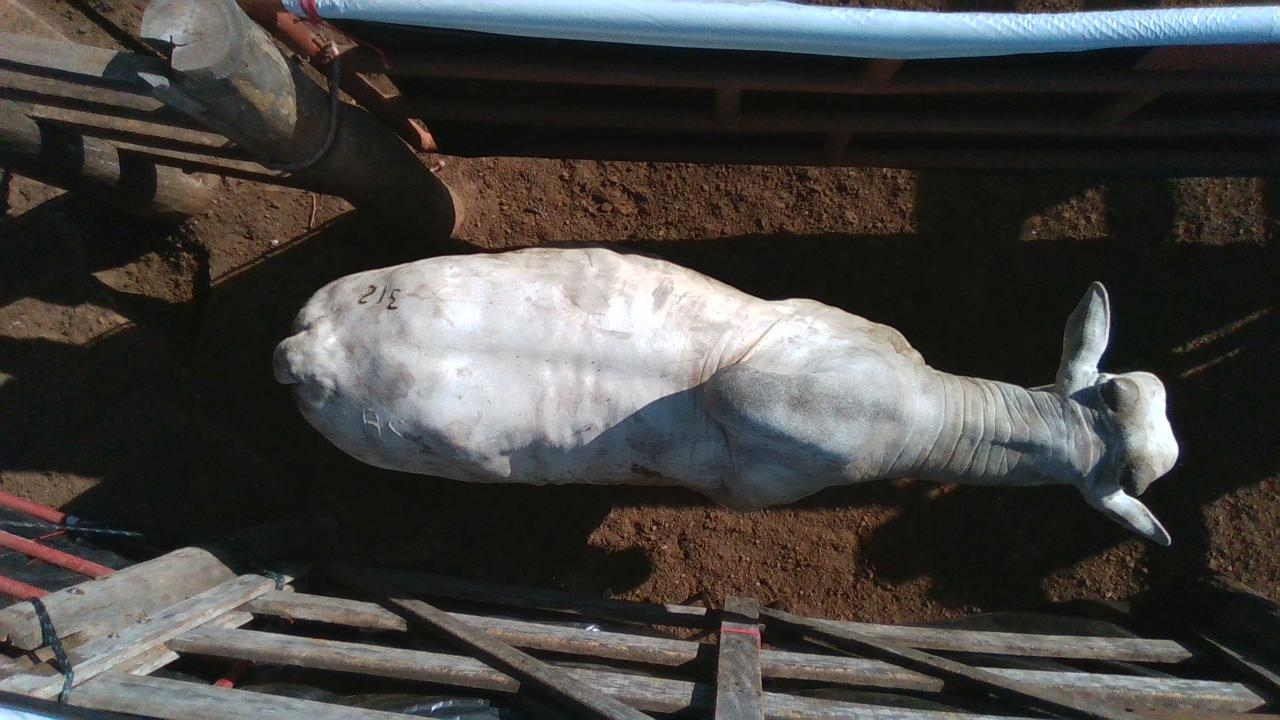cattle: (270, 243, 1181, 548)
